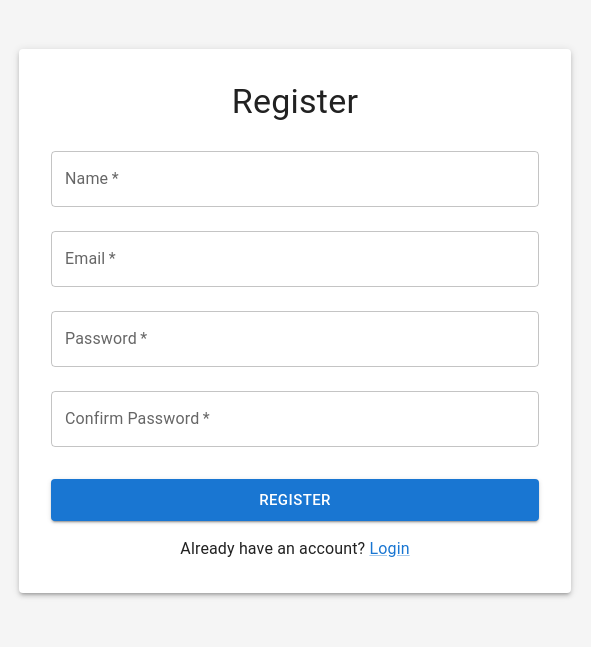
Test: RegisterPage › Form Validation › should show error when passwords do not match
Type "John Doe" into the field labelled "Name *" at (295, 179), box [51,151,539,207]
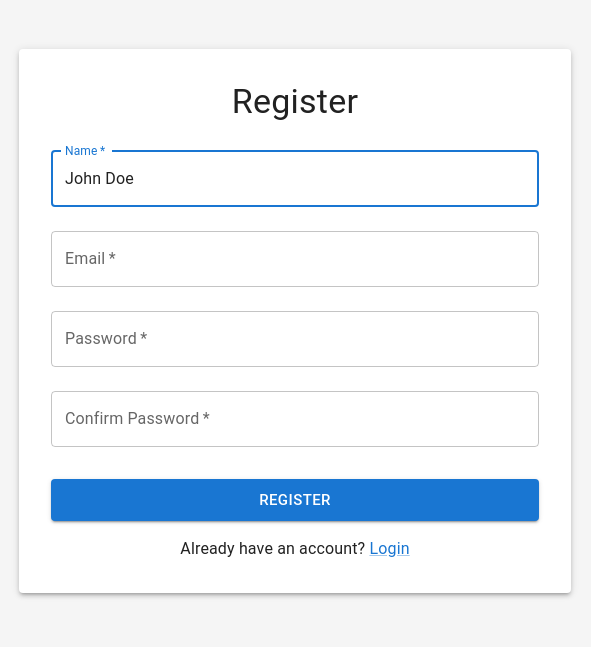
Type "john@example.com" into the field labelled "Email *" at (295, 259), box [51,231,539,287]
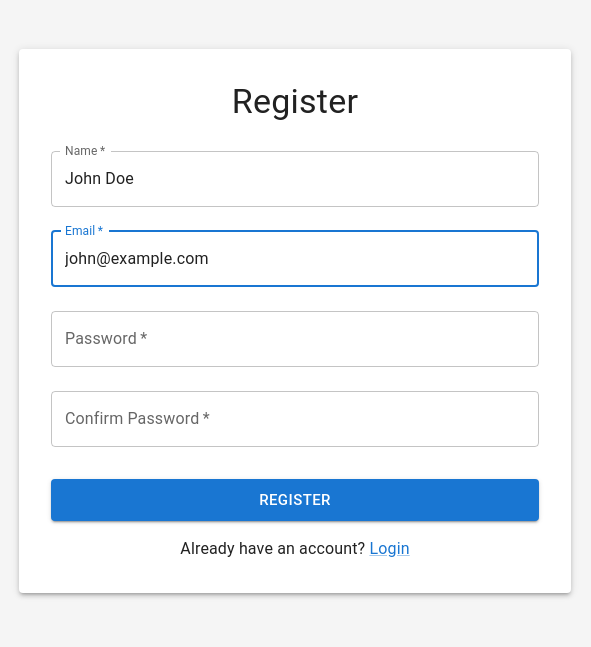
Type "password123" into the password field labelled "Password *" at (295, 339), box [51,311,539,367]
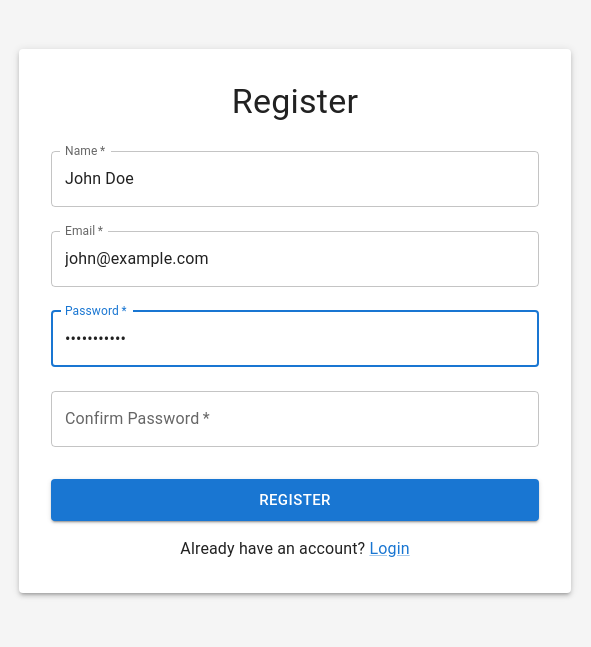
Type "differentpassword" into the password field labelled "Confirm Password *" at (295, 419), box [51,391,539,447]
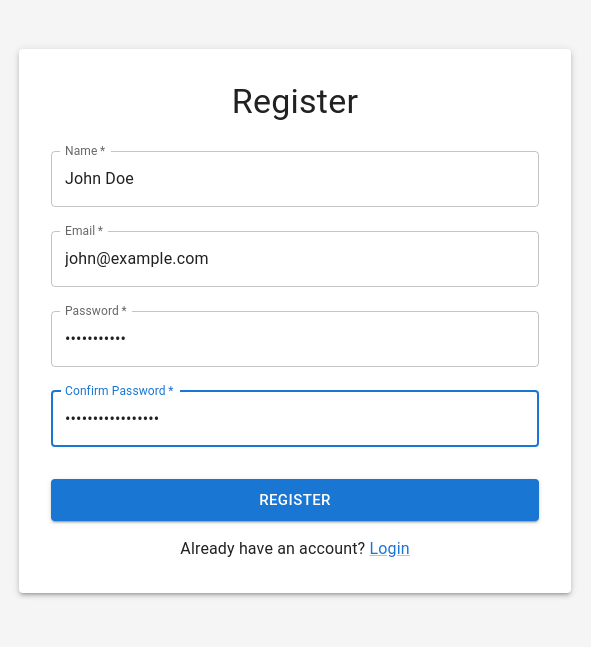
Click the button "Register" at (295, 500), box [51,479,539,521]
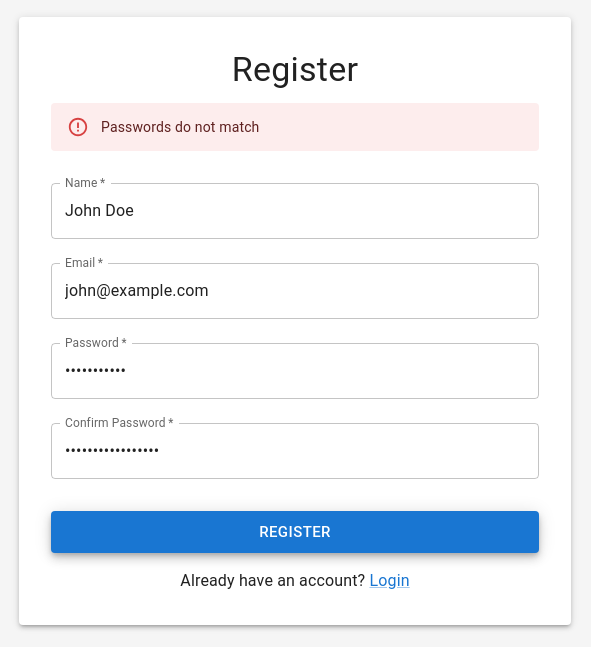
Expected: the text "Passwords do not match" is shown, [101,119,260,135]
